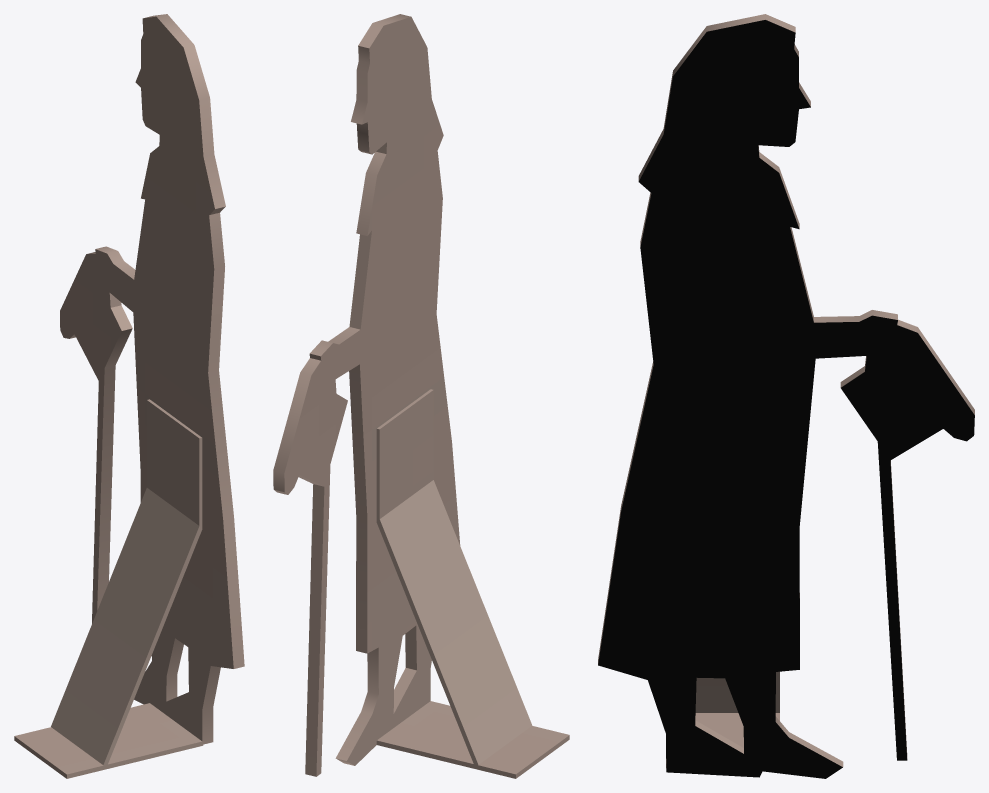
The model's file is Mann 1.FBX.
The picture shows the model from 3 angles, left to right: view 1: azimuth 30°, elevation 25°; view 2: azimuth 150°, elevation 25°; view 3: azimuth 270°, elevation 25°; orthographic projection. The views are drawn at different scales.
Visible parts, largest first — view 1: Mann 1; view 2: Mann 1; view 3: Mann 1.
Part boxes in pixels (x1,y1,x2,y2): Mann 1: [14, 14, 244, 778]; Mann 1: [273, 14, 569, 778]; Mann 1: [598, 14, 974, 778].
Bounding box in the file's own units: 40.22 × 184 × 82.75.
